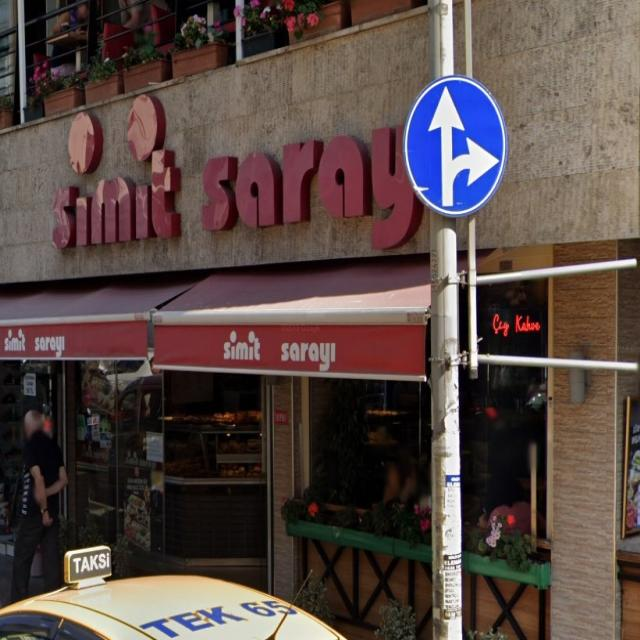ilerisag: (403, 75, 507, 217)
